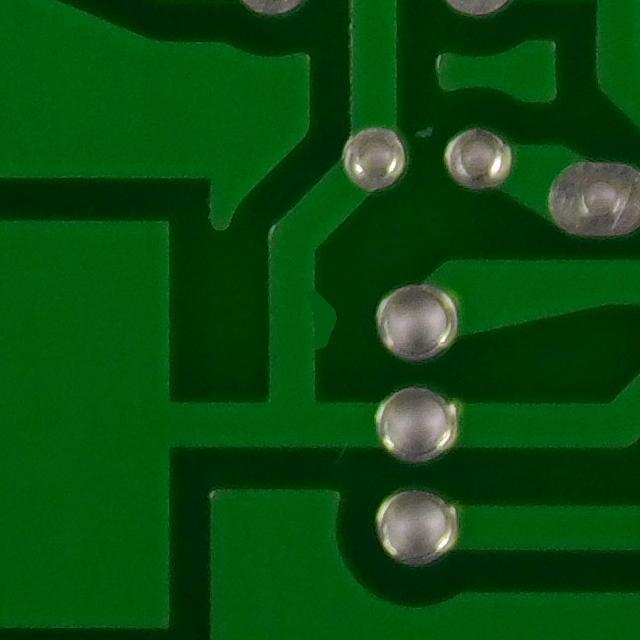spur: (288, 276, 353, 365)
